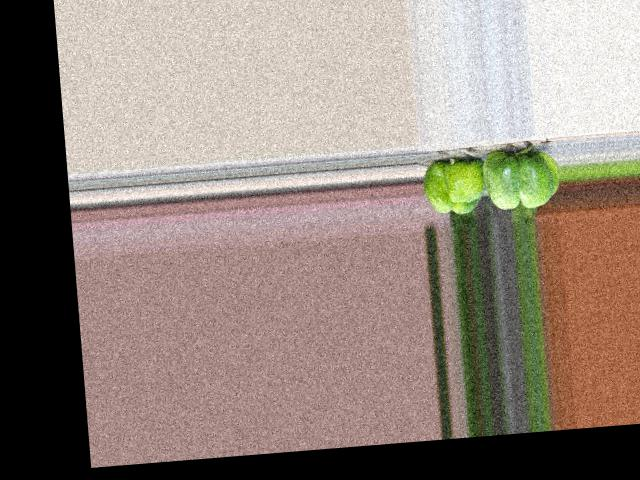bell_pepper: (419, 151, 488, 219)
